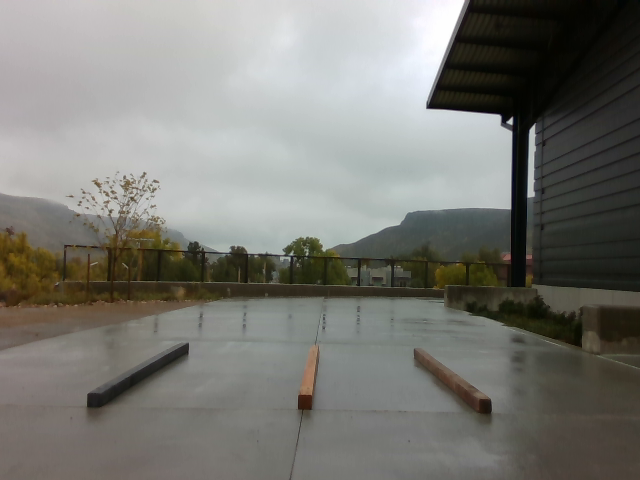dunnage: (85, 336, 498, 425)
